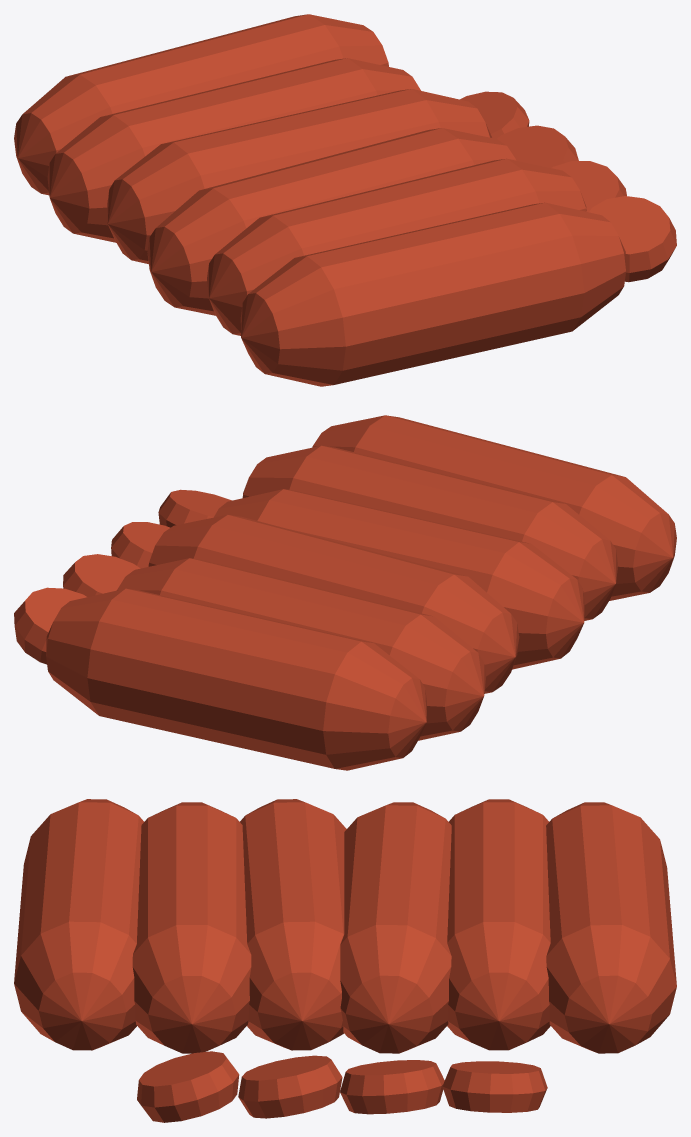
The model's file is SM_Cook_Topping_Sausage_HD_01.fbx.
3 renders of one model, top to bottom at view 1: azimuth 30°, elevation 25°; view 2: azimuth 150°, elevation 25°; view 3: azimuth 270°, elevation 25°, orthographic. The views are drawn at different scales.
Parts seen in each view (by area): view 1: SM_Cook_Topping_Sausage_HD_01; view 2: SM_Cook_Topping_Sausage_HD_01; view 3: SM_Cook_Topping_Sausage_HD_01.
Boxes of the visible parts, x1,y1,x2,y2 form: SM_Cook_Topping_Sausage_HD_01: (14, 14, 676, 386); SM_Cook_Topping_Sausage_HD_01: (14, 415, 676, 770); SM_Cook_Topping_Sausage_HD_01: (14, 799, 676, 1122).
Bounding box in the file's own units: 0.1451 × 0.0378 × 0.1685.
Materials: 1 (1 with a texture image).
